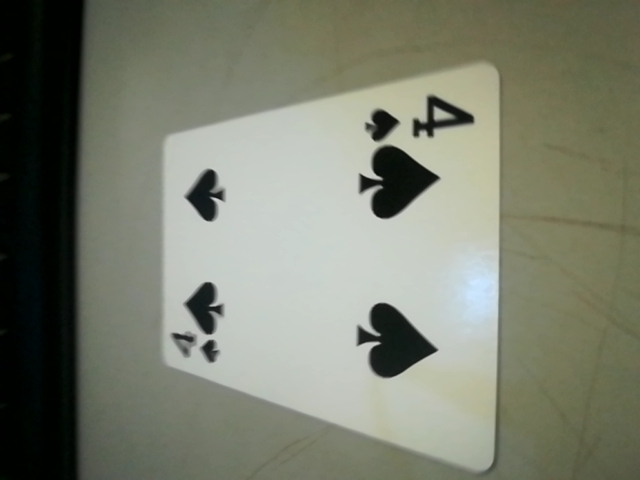ht 4: (353, 87, 479, 156)
